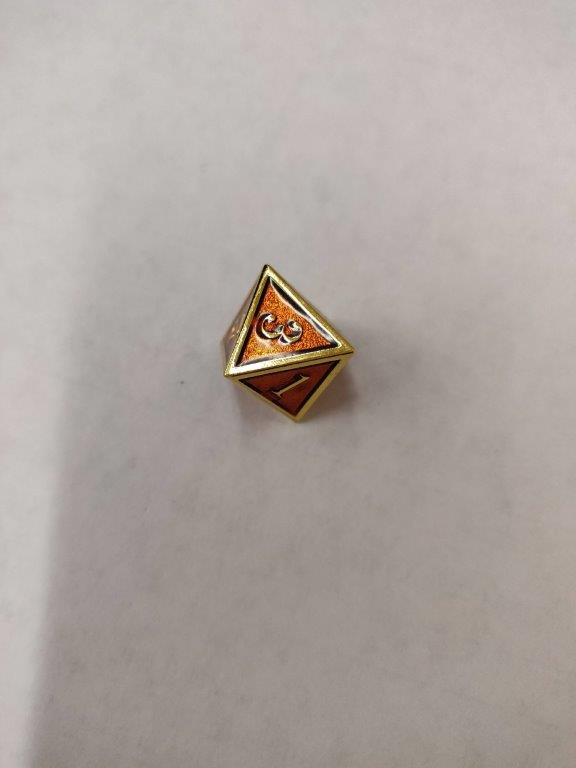d8-3: (219, 262, 358, 427)
